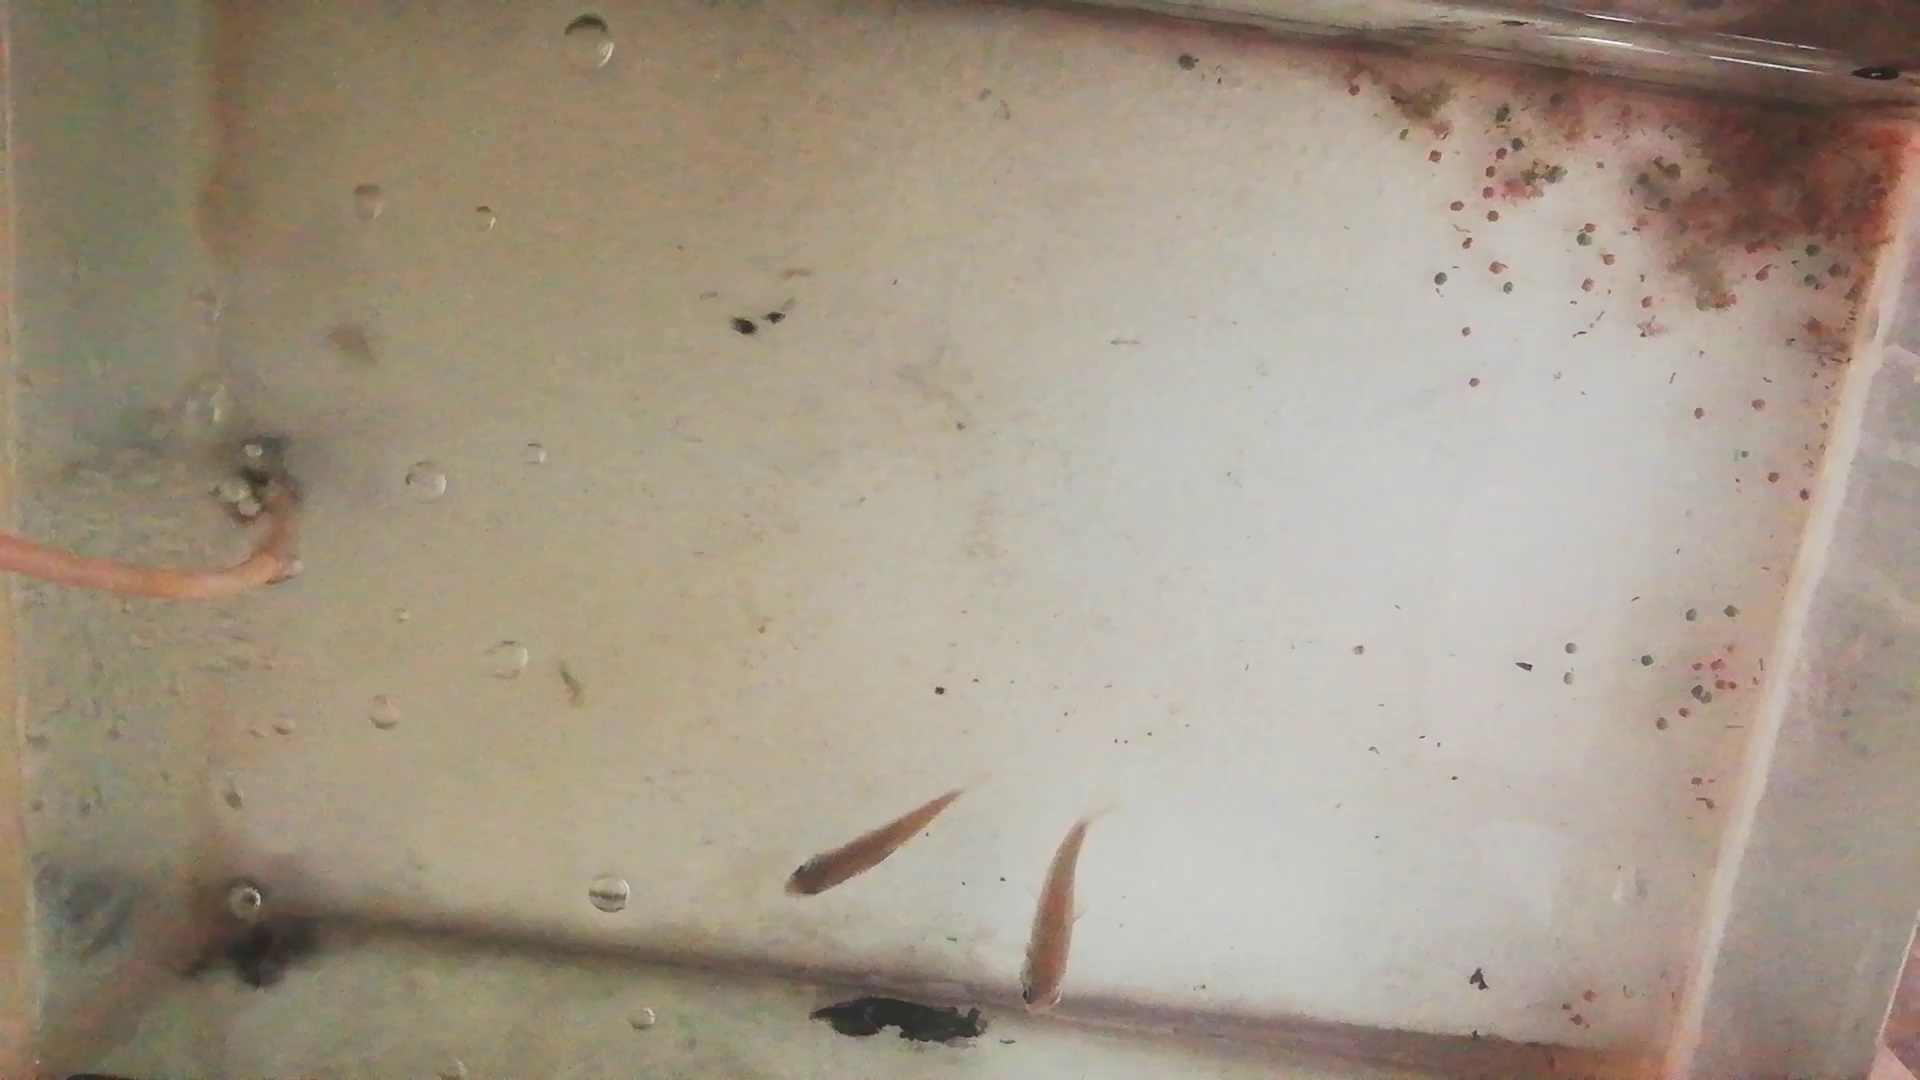fish: (781, 789, 963, 901), (1017, 822, 1091, 1018)
